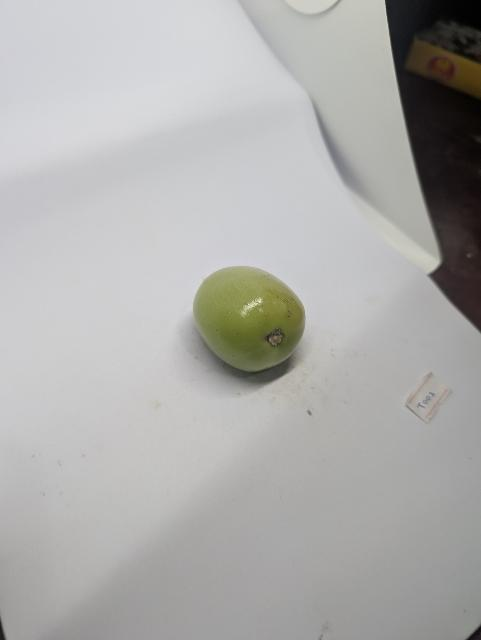green: (179, 265, 318, 381)
